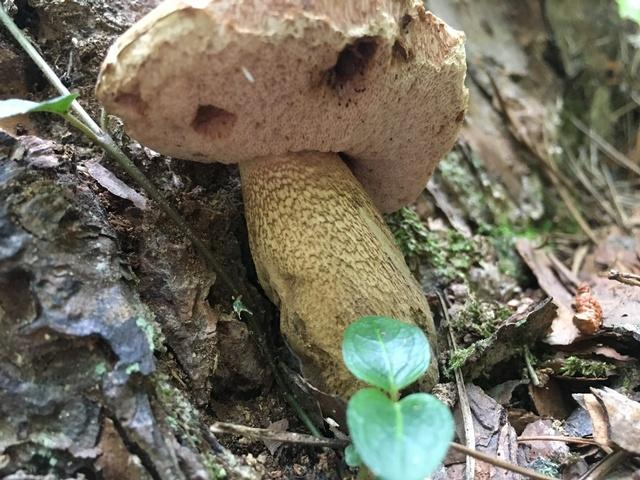Non-edible Mushroom: (93, 0, 470, 408)
